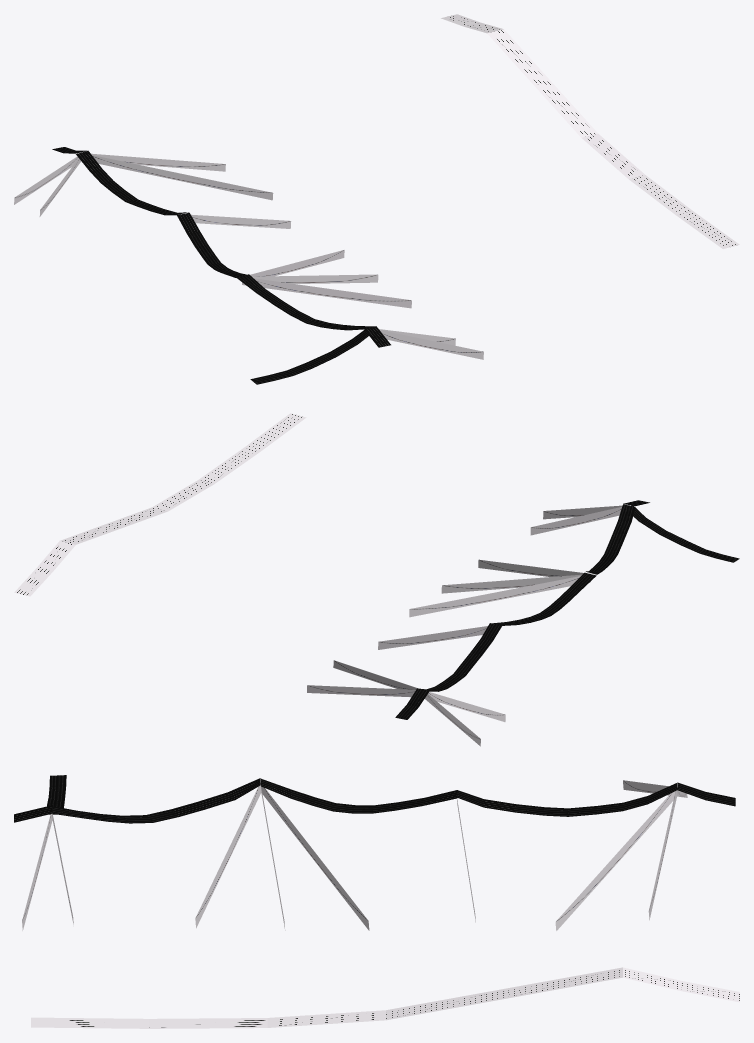
Rendered from wires_07c_sfs.obj.
3 views of the same model, one above another, from view 1: azimuth 30°, elevation 25°; view 2: azimuth 150°, elevation 25°; view 3: azimuth 270°, elevation 25° (orthographic). The views are drawn at different scales.
Visible parts, largest first — view 1: wires_07c_SFS; view 2: wires_07c_SFS; view 3: wires_07c_SFS.
Part boxes in pixels (x1,y1,x2,y2): wires_07c_SFS: (14,14,739,384); wires_07c_SFS: (14,413,739,746); wires_07c_SFS: (14,775,739,1028).
Size of the model in its own units: 73.48 by 13.28 by 77.71.
3 materials, 3 textured.
